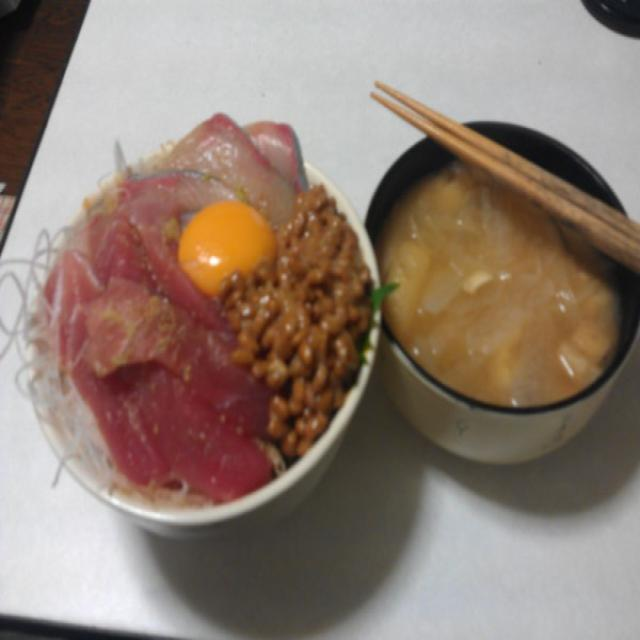刺身生食: (23, 111, 384, 528)
汤锅炖物: (361, 102, 640, 477)
